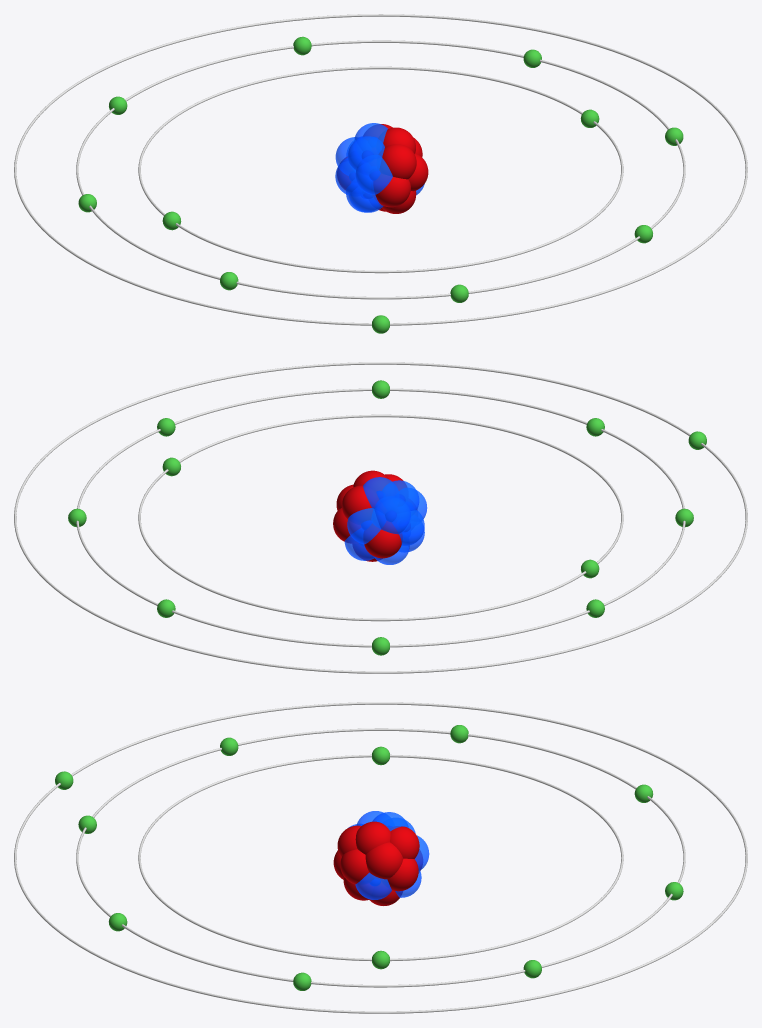
File: Sodium.glb
The picture shows the model from 3 angles, top to bottom: view 1: azimuth 30°, elevation 25°; view 2: azimuth 150°, elevation 25°; view 3: azimuth 270°, elevation 25°; orthographic projection.
Visible parts, largest first — view 1: element_011_sodium_nucleus, sodium orbital 1.007, sodium orbital 1.010, sodium orbital 1; view 2: element_011_sodium_nucleus, sodium orbital 1.007, sodium orbital 1.010, sodium orbital 1; view 3: element_011_sodium_nucleus, sodium orbital 1.007, sodium orbital 1.010, sodium orbital 1.
Part boxes in pixels (x1,y1,x2,y2): element_011_sodium_nucleus: (335,123,428,213); sodium orbital 1.007: (76,36,685,302); sodium orbital 1.010: (14,14,747,333); sodium orbital 1: (138,66,623,273); element_011_sodium_nucleus: (333,470,427,564); sodium orbital 1.007: (68,380,693,655); sodium orbital 1.010: (14,362,747,673); sodium orbital 1: (138,414,623,621); element_011_sodium_nucleus: (333,811,429,905); sodium orbital 1.007: (76,725,685,990); sodium orbital 1.010: (14,702,747,1013); sodium orbital 1: (138,746,623,969).
Bounding box in the file's own units: 1.18 × 0.1517 × 1.18.
